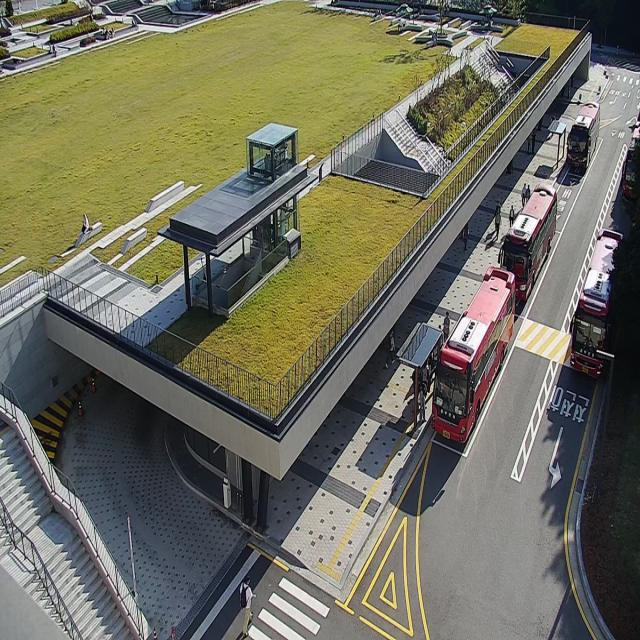queue: (414, 313, 450, 435)
